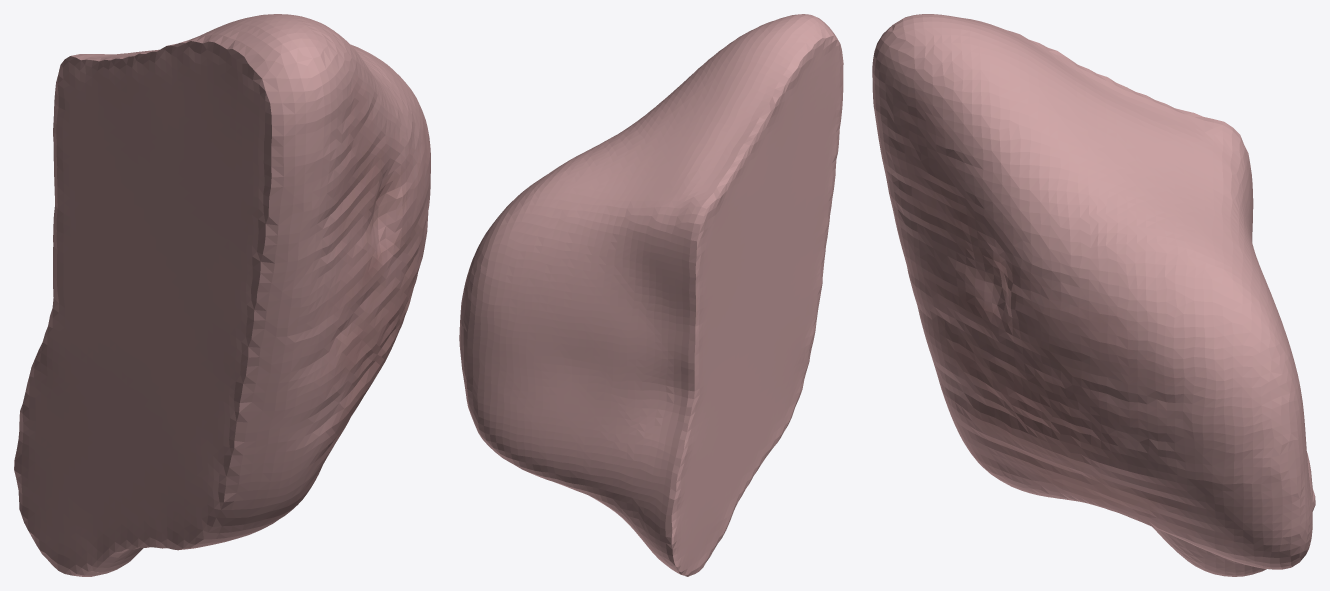
File: Pons1.obj
3 renders of one model, left to right at view 1: azimuth 30°, elevation 25°; view 2: azimuth 150°, elevation 25°; view 3: azimuth 270°, elevation 25°, orthographic. The views are drawn at different scales.
Parts seen in each view (by area): view 1: obj0; view 2: obj0; view 3: obj0.
Part boxes in pixels (bbox=[...]): obj0: bbox=[14, 14, 430, 576]; obj0: bbox=[459, 14, 843, 576]; obj0: bbox=[872, 14, 1315, 576].
Size of the model in its own units: 9.26 by 17.14 by 12.19.
1 material, 1 textured.
